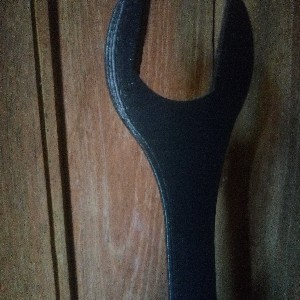spanner: (103, 1, 255, 300)
